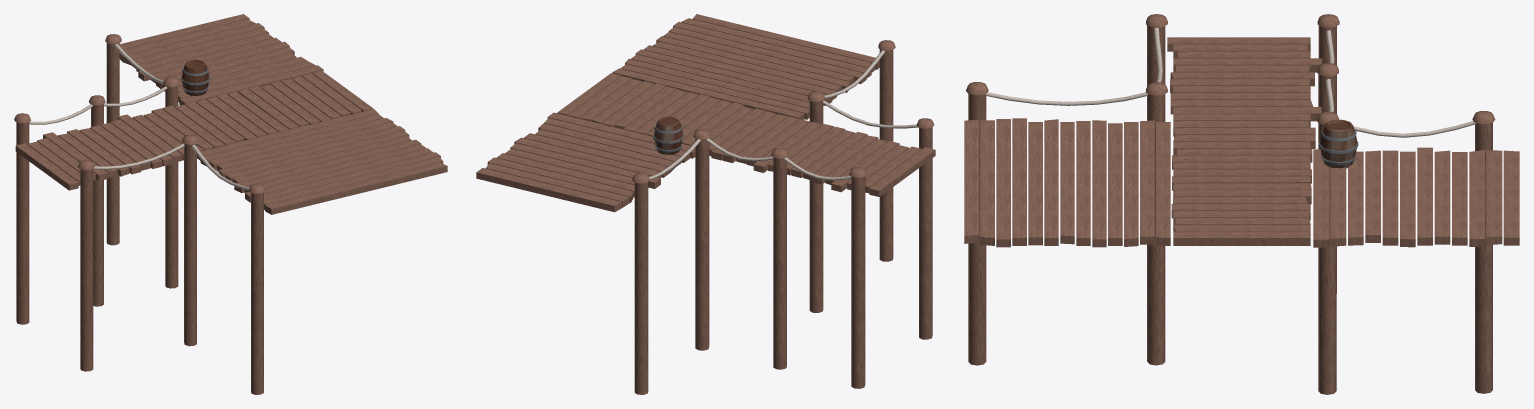
Rendered from pier.glb.
The picture shows the model from 3 angles, left to right: view 1: azimuth 30°, elevation 25°; view 2: azimuth 150°, elevation 25°; view 3: azimuth 270°, elevation 25°; orthographic projection. The views are drawn at different scales.
Visible parts, largest first — view 1: first.007; view 2: first.007; view 3: first.007.
Part boxes in pixels (x1,y1,x2,y2): first.007: (14,14,447,394); first.007: (476,14,935,394); first.007: (964,14,1519,394).
Bounding box in the file's own units: 6.97 × 4.57 × 8.08.
1 material, 1 textured.
